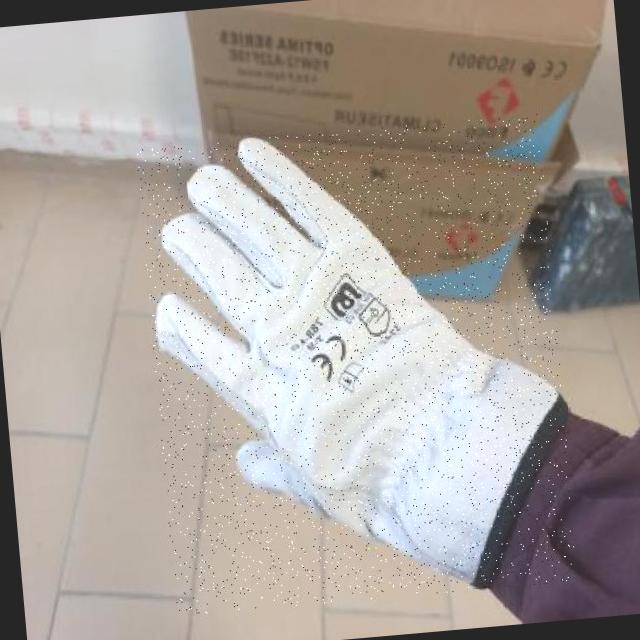gloves: (129, 105, 588, 622)
